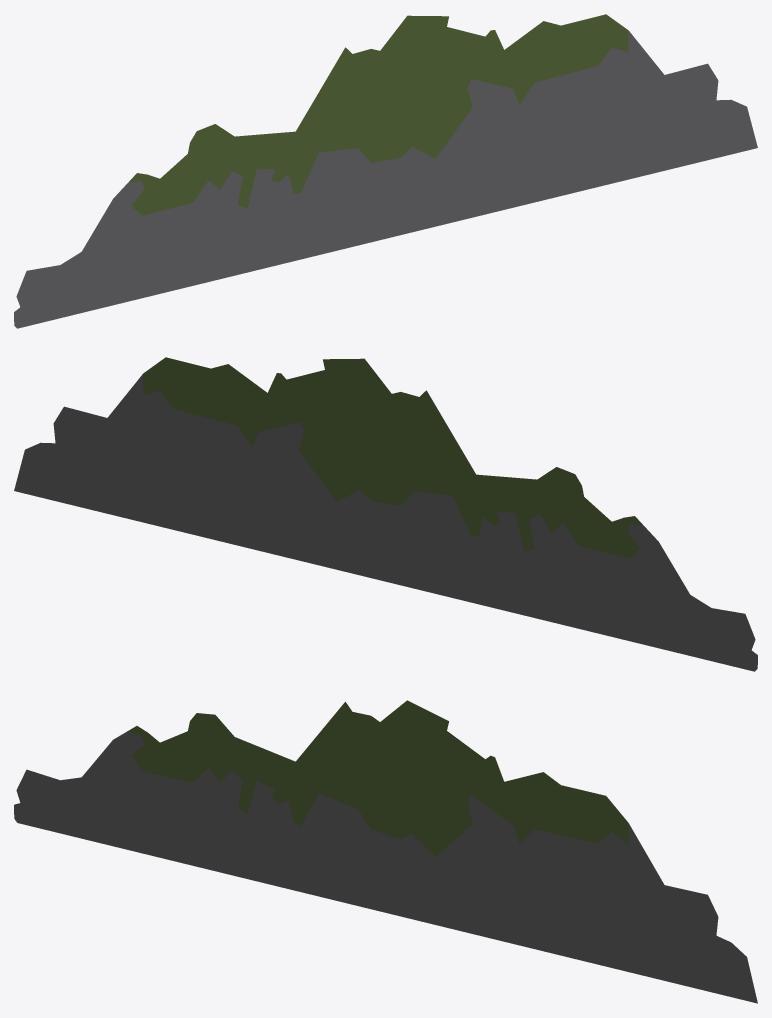
Rendered from SM_Env_Background_Island_06.glb.
3 views of the same model, one above another, from view 1: azimuth 30°, elevation 25°; view 2: azimuth 150°, elevation 25°; view 3: azimuth 330°, elevation 25° (orthographic).
Parts seen in each view (by area): view 1: SM_Env_Background_Island_06_part00; view 2: SM_Env_Background_Island_06_part00; view 3: SM_Env_Background_Island_06_part00.
Part boxes in pixels (<box>): SM_Env_Background_Island_06_part00: <box>14,14,757,328</box>; SM_Env_Background_Island_06_part00: <box>14,357,757,671</box>; SM_Env_Background_Island_06_part00: <box>14,700,757,1003</box>.
Size of the model in its own units: 45.47 by 12.72 by 3.15e-06.
Materials: 1 (1 with a texture image).
